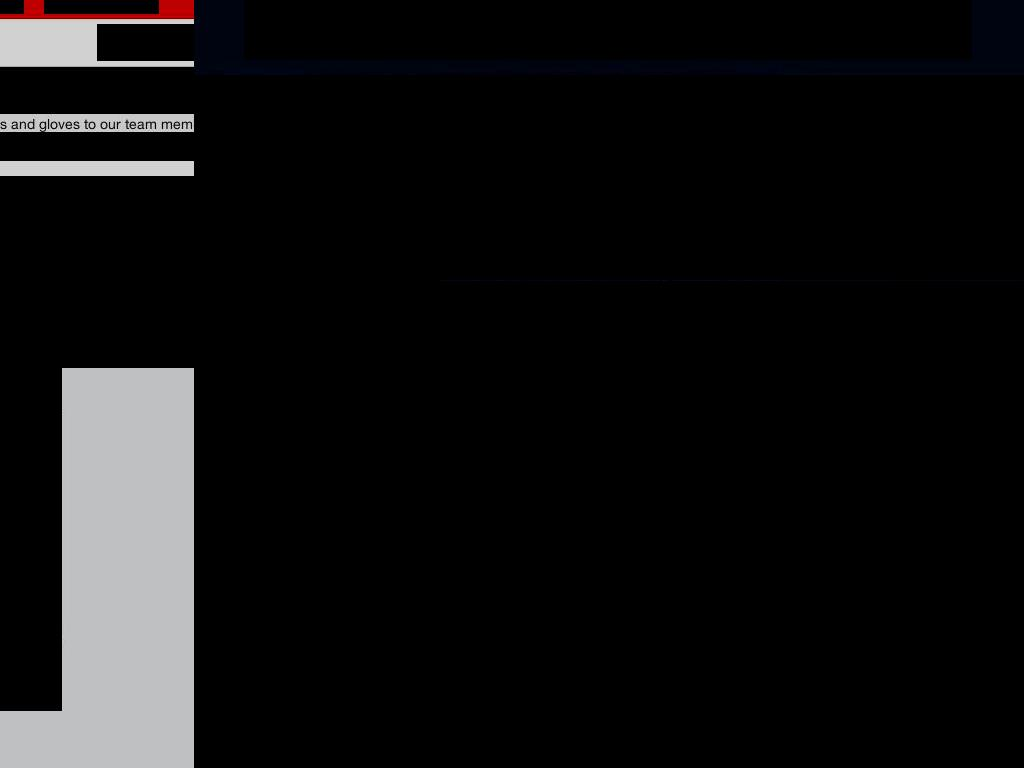button: (194, 75, 438, 368), (437, 75, 779, 280), (778, 75, 1024, 280), (0, 176, 194, 368), (437, 281, 779, 368), (0, 368, 62, 711), (0, 67, 194, 161), (619, 615, 805, 670), (97, 24, 194, 61), (44, 0, 159, 14)
heading: (194, 402, 542, 618), (194, 638, 542, 768), (619, 436, 907, 503), (793, 214, 1024, 262), (452, 241, 738, 262), (452, 219, 760, 233), (793, 192, 1024, 206), (194, 332, 419, 346), (194, 355, 379, 368)
iframe: (244, 0, 972, 60)
image: (194, 368, 1024, 768), (223, 373, 583, 733), (581, 564, 1024, 768), (0, 176, 194, 368), (0, 67, 194, 161), (898, 390, 918, 411), (14, 0, 24, 6), (149, 0, 159, 6)
text: (619, 522, 907, 586), (0, 114, 194, 132), (0, 680, 26, 711)
